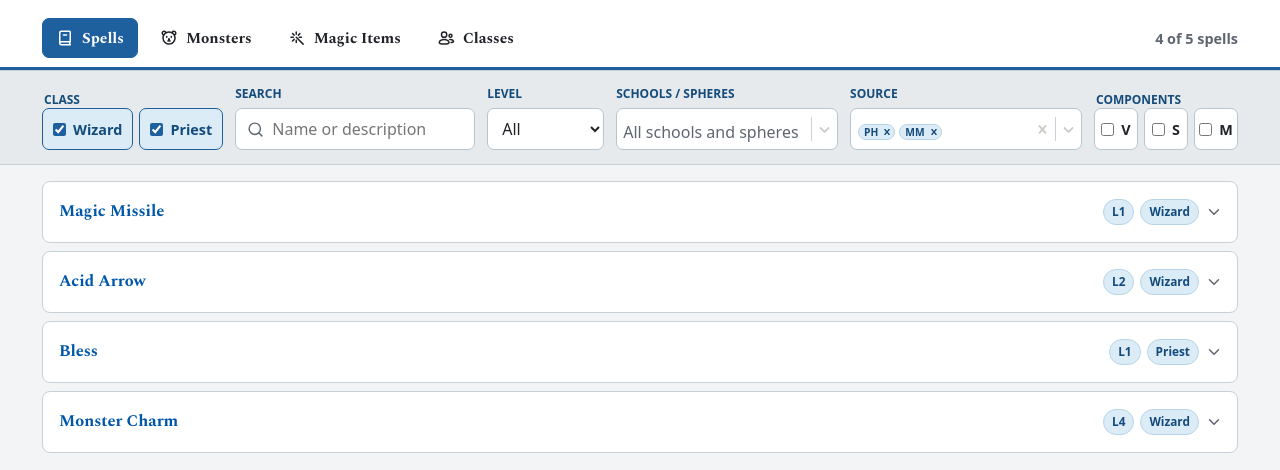
Scenario: App › narrows browse filter options to the selected source
Expected: the text "Magic Missile" is shown, x1=59 y1=202 x2=164 y2=222
Click the button "Magic Items" at (344, 38), box x1=274 y1=18 x2=415 y2=58
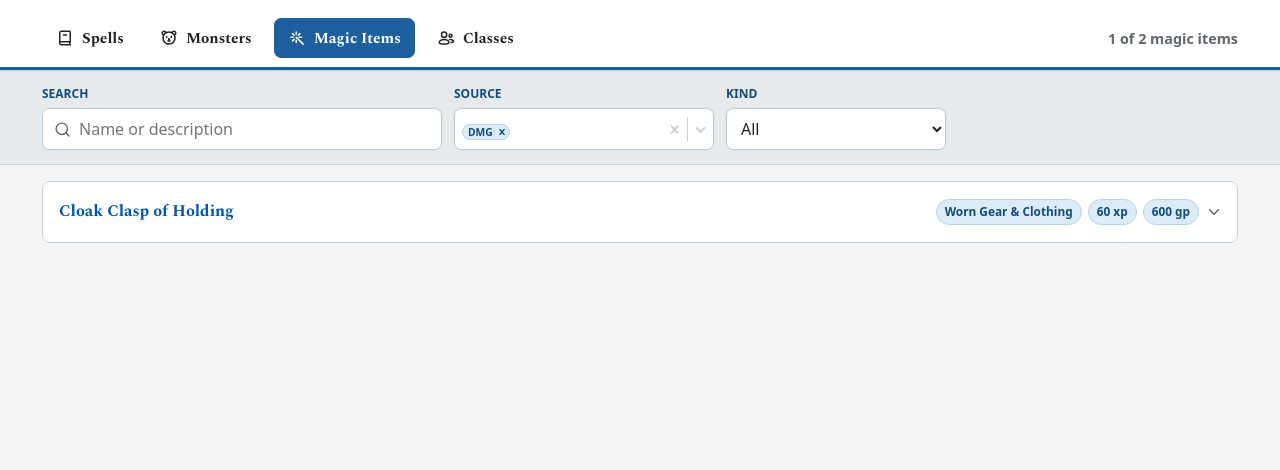
Now the text "Cloak Clasp of Holding" is shown, box x1=59 y1=202 x2=234 y2=222
Now the dropdown named "magic items kind" is shown, box x1=726 y1=108 x2=946 y2=150
